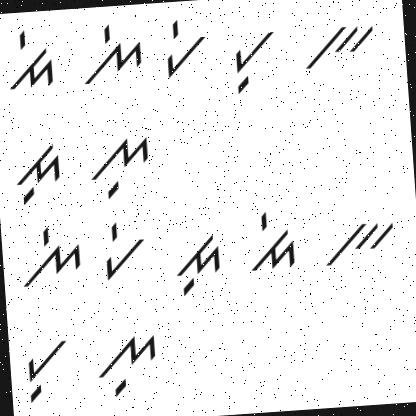de: (234, 203, 303, 281), (5, 25, 61, 92)
du: (169, 218, 227, 301), (7, 135, 68, 209)
ne: (11, 218, 85, 292), (77, 18, 148, 86)
nu: (89, 327, 167, 405), (85, 128, 157, 204)
pe: (97, 209, 151, 284), (154, 13, 210, 80)
pu: (223, 20, 283, 98), (17, 328, 74, 405)
